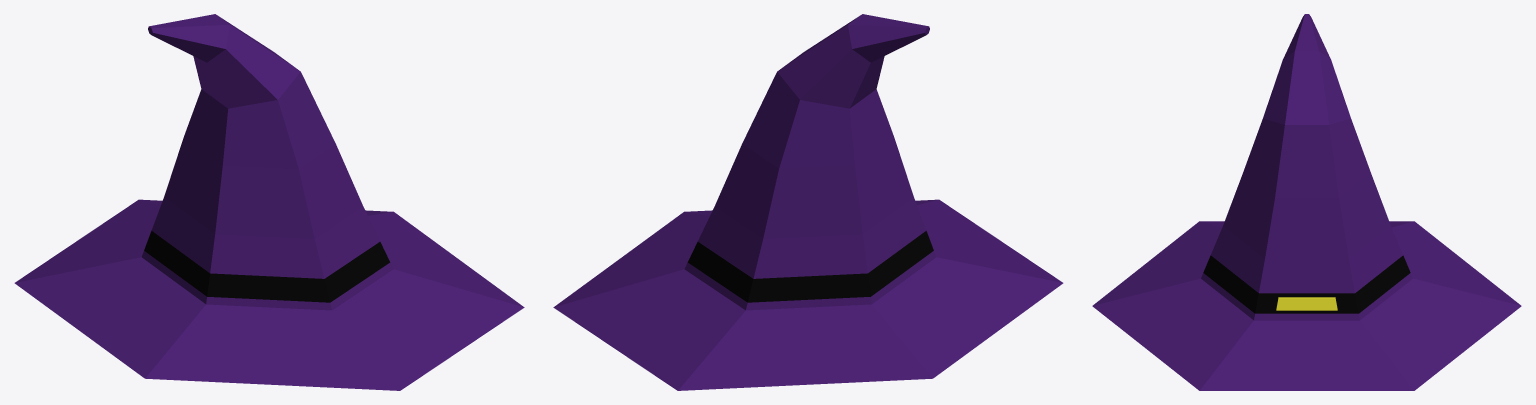
File: chapeau.glb
3 views of the same model, side by side, from view 1: azimuth 30°, elevation 25°; view 2: azimuth 150°, elevation 25°; view 3: azimuth 270°, elevation 25° (orthographic). The views are drawn at different scales.
Parts seen in each view (by area): view 1: Cylindre; view 2: Cylindre; view 3: Cylindre.
Boxes of the visible parts, left/top/right/bottom form: Cylindre: left=14, top=14, right=524, bottom=390; Cylindre: left=553, top=14, right=1063, bottom=390; Cylindre: left=1092, top=14, right=1521, bottom=390.
Bounding box in the file's own units: 1.11 × 0.8599 × 1.32.
